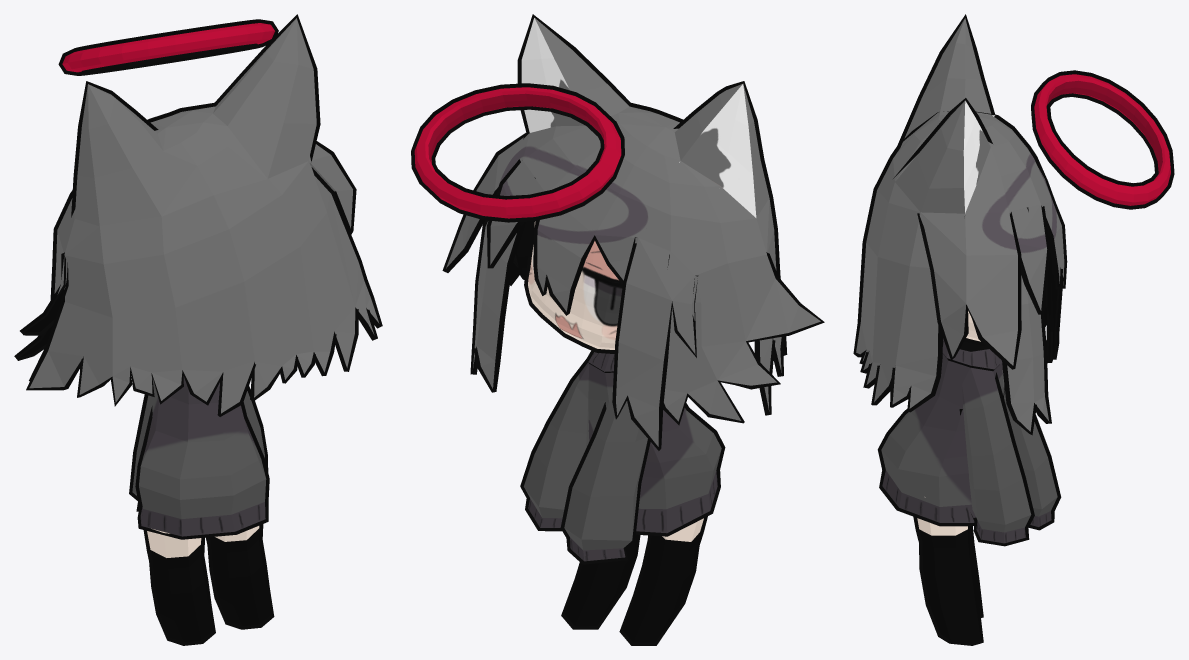
The model's file is chibi_nekogirl.glb.
3 renders of one model, left to right at view 1: azimuth 30°, elevation 25°; view 2: azimuth 150°, elevation 25°; view 3: azimuth 270°, elevation 25°, orthographic. The views are drawn at different scales.
Visible parts, largest first — view 1: Sphere; view 2: Sphere; view 3: Sphere.
Boxes of the visible parts, x1,y1,x2,y2 form: Sphere: (14,14,382,645); Sphere: (411,14,824,645); Sphere: (853,14,1174,645).
Bounding box in the file's own units: 3.04 × 4.96 × 2.53.
2 materials, 1 textured.
